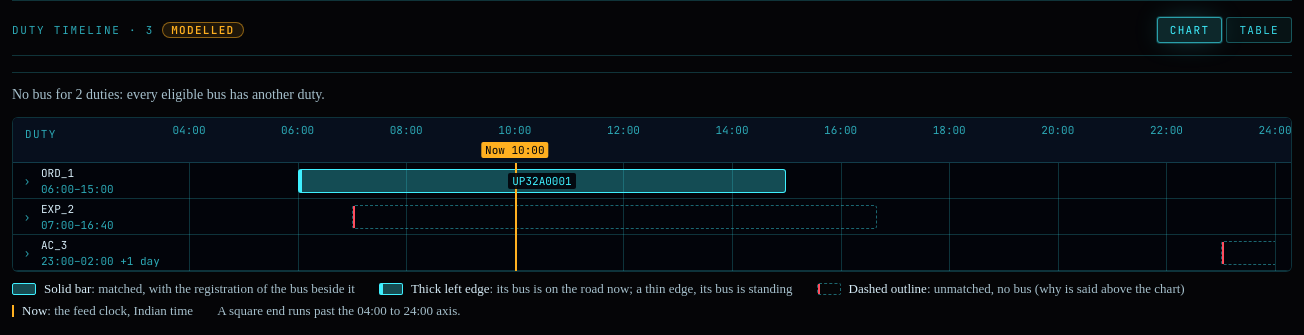
Scenario: DutyBoard › switches to a table with the same rows and state words, and back
Click the button "Table" at (1259, 30), box [1226,17,1292,43]
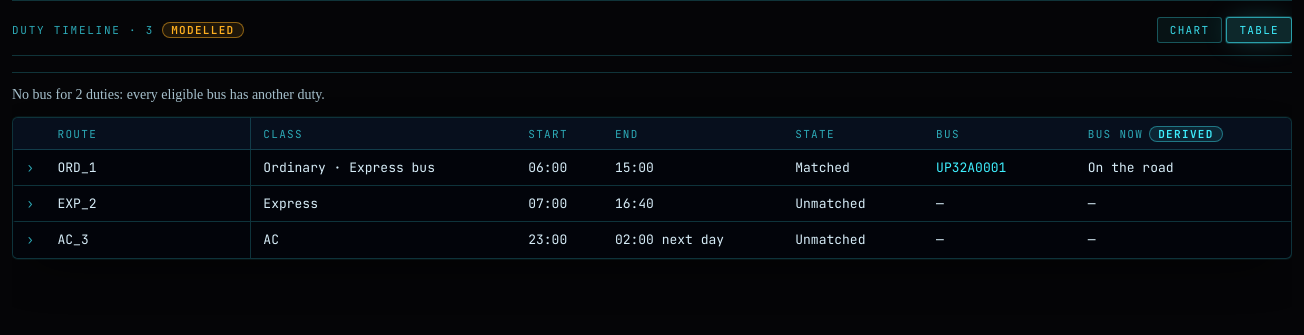
Result: the table is shown at [13,118,1291,258]
Result: the element with test id "duty-row" is gone
Result: the row named "ORD_1, show details" shows "Matched" at [795,158,850,176]
Click the button "›" next to "EXP_2" at (30, 204), box [20,192,40,216]
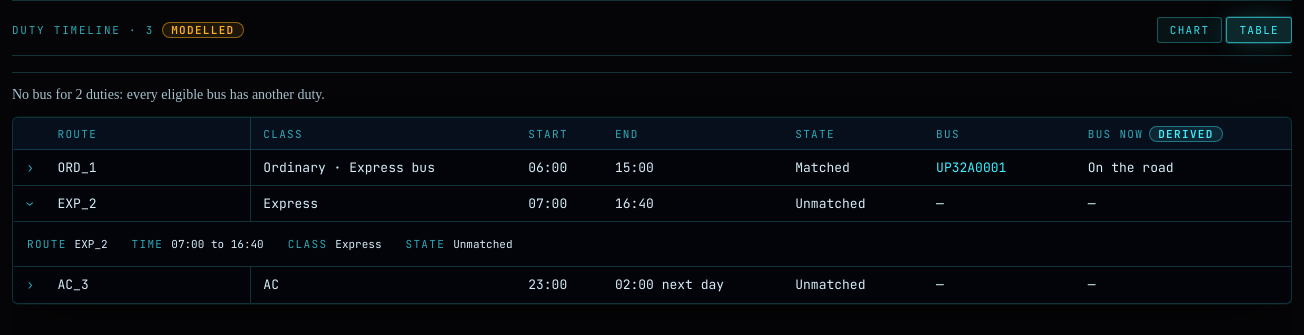
Result: the element with test id "duty-row-detail" shows "Unmatched" at [453,237,512,251]
Click the button "Chart" at (1190, 30), box [1157,17,1222,43]
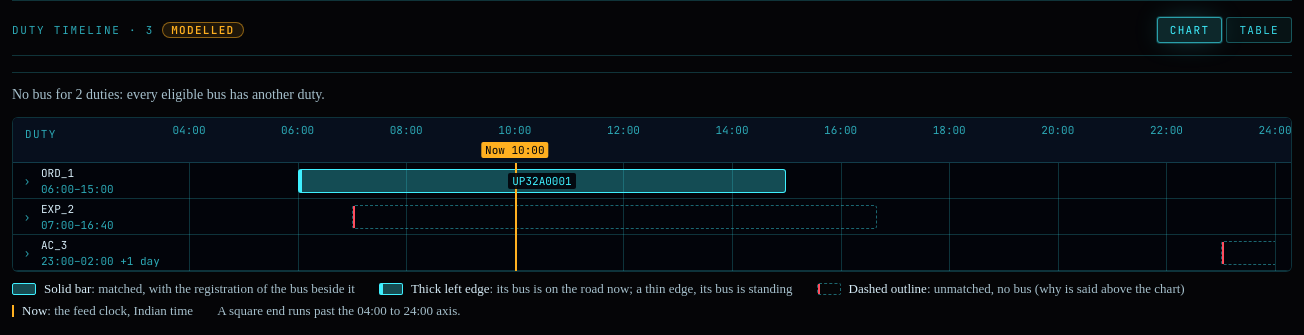
Result: the table is gone
Result: the number of elements with test id "duty-row" is 3 at [13,163,1291,199]; [13,199,1291,235]; [13,235,1291,271]
